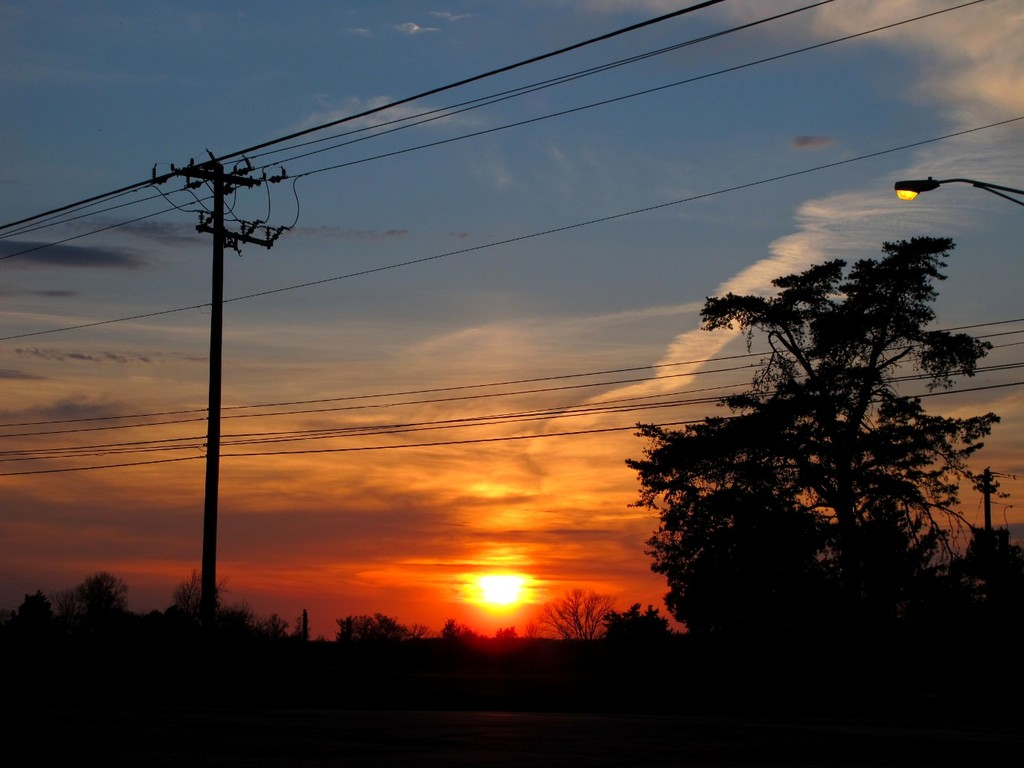Tree: (642, 204, 990, 635), (0, 572, 482, 703), (538, 585, 609, 650), (601, 597, 679, 650)
